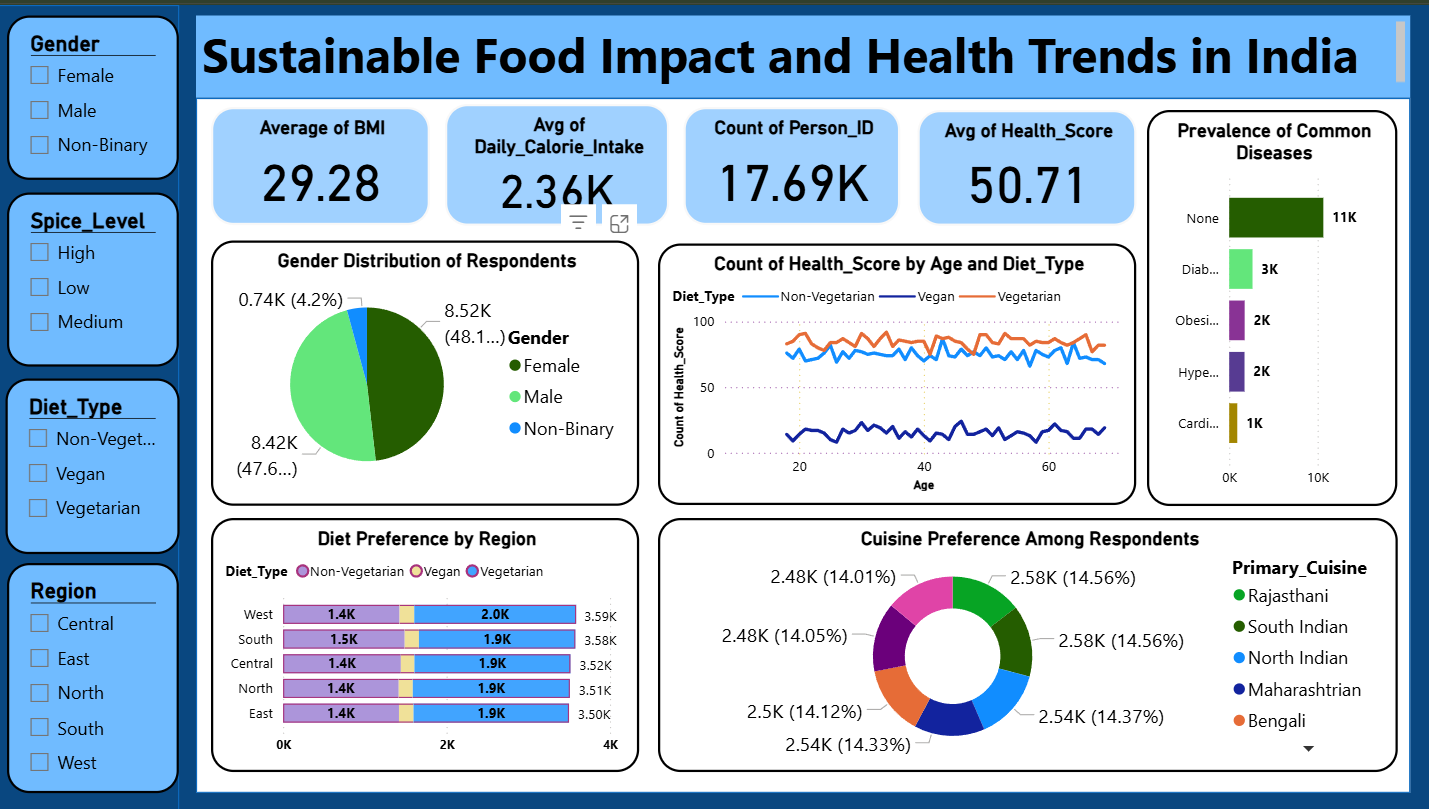

The dashboard page shown, as its layout file describes it:
{"tool":"powerbi","page":{"name":"Dashboard","canvas":[1280,720],"ordinal":0},"visuals":[{"type":"shape","box":[176.7,83.3,1083.3,620],"z":0},{"type":"shape","box":[0,0,161.7,720],"z":1000},{"type":"textbox","box":[176.7,10,1083.3,73.3],"z":2000},{"type":"card","title":"Average of BMI","fields":{"Values":["Avg(food_impact_india.BMI)"]},"box":[190,91.7,195,105],"z":3000},{"type":"card","title":"Avg of Daily_Calorie_Intake","fields":{"Values":["Avg(food_impact_india.Daily_Calorie_Intake)"]},"box":[398.3,88.3,200,108.3],"z":4000},{"type":"card","title":"Count of Person_ID","fields":{"Values":["CountNonNull(food_impact_india.Person_ID)"]},"box":[611.7,91.7,193.3,105],"z":5000},{"type":"card","title":"Avg of Health_Score","fields":{"Values":["Avg(food_impact_india.Health_Score)"]},"box":[820,93.3,195,103.3],"z":6000},{"type":"pieChart","title":"\tGender Distribution of Respondents","fields":{"Y":["Count(food_impact_india.Person_ID)"],"Category":["food_impact_india.Gender"]},"box":[190,210,381.7,236.7],"z":7000},{"type":"barChart","title":"\tDiet Preference by Region","fields":{"Y":["CountNonNull(food_impact_india.Person_ID)"],"Category":["food_impact_india.Region"],"Series":["food_impact_india.Diet_Type"]},"box":[190,458.3,381.7,226.7],"z":8000},{"type":"donutChart","title":"\tCuisine Preference Among Respondents","fields":{"Y":["CountNonNull(food_impact_india.Person_ID)"],"Category":["food_impact_india.Primary_Cuisine"]},"box":[588.3,458.3,660,226.7],"z":9000},{"type":"clusteredBarChart","title":"Prevalence of Common Diseases","fields":{"Y":["CountNonNull(food_impact_india.Person_ID)"],"Category":["food_impact_india.Common_Diseases"]},"box":[1025,93.3,223.3,353.3],"z":10000},{"type":"slicer","fields":{"Values":["food_impact_india.Gender"]},"box":[8.3,10,153.3,146.7],"z":11000},{"type":"slicer","fields":{"Values":["food_impact_india.Region"]},"box":[8.3,498.3,153.3,205],"z":12000},{"type":"slicer","fields":{"Values":["food_impact_india.Diet_Type"]},"box":[6.7,333.3,155,156.7],"z":13000},{"type":"slicer","fields":{"Values":["food_impact_india.Spice_Level"]},"box":[8.3,166.7,153.3,155],"z":14000},{"type":"lineChart","fields":{"Y":["Count(food_impact_india.Health_Score)"],"Series":["food_impact_india.Diet_Type"],"Category":["food_impact_india.Age"]},"box":[588.3,213.3,426.7,233.3],"z":15000}]}

Visuals, with their boxes in screenshot pixels (x1, y1, x2, y2), scaled from the page's 1280x720 canvas onto the 1429x809 screenshot:
shape: region(197, 94, 1407, 790)
shape: region(0, 0, 181, 808)
textbox: region(197, 11, 1407, 94)
"Average of BMI" card: region(212, 103, 430, 221)
"Avg of Daily_Calorie_Intake" card: region(445, 99, 668, 221)
"Count of Person_ID" card: region(683, 103, 899, 221)
"Avg of Health_Score" card: region(915, 105, 1133, 221)
"	Gender Distribution of Respondents" pieChart: region(212, 236, 638, 502)
"	Diet Preference by Region" barChart: region(212, 515, 638, 770)
"	Cuisine Preference Among Respondents" donutChart: region(657, 515, 1394, 770)
"Prevalence of Common Diseases" clusteredBarChart: region(1144, 105, 1394, 502)
slicer - food_impact_india.Gender: region(9, 11, 180, 176)
slicer - food_impact_india.Region: region(9, 560, 180, 790)
slicer - food_impact_india.Diet_Type: region(7, 374, 181, 551)
slicer - food_impact_india.Spice_Level: region(9, 187, 180, 361)
lineChart - Count(food_impact_india.Health_Score) x food_impact_india.Diet_Type: region(657, 240, 1133, 502)
